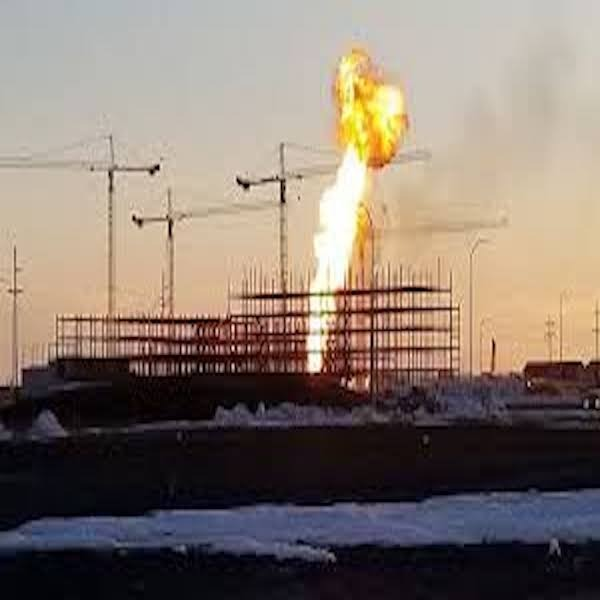fire: (338, 48, 406, 166)
